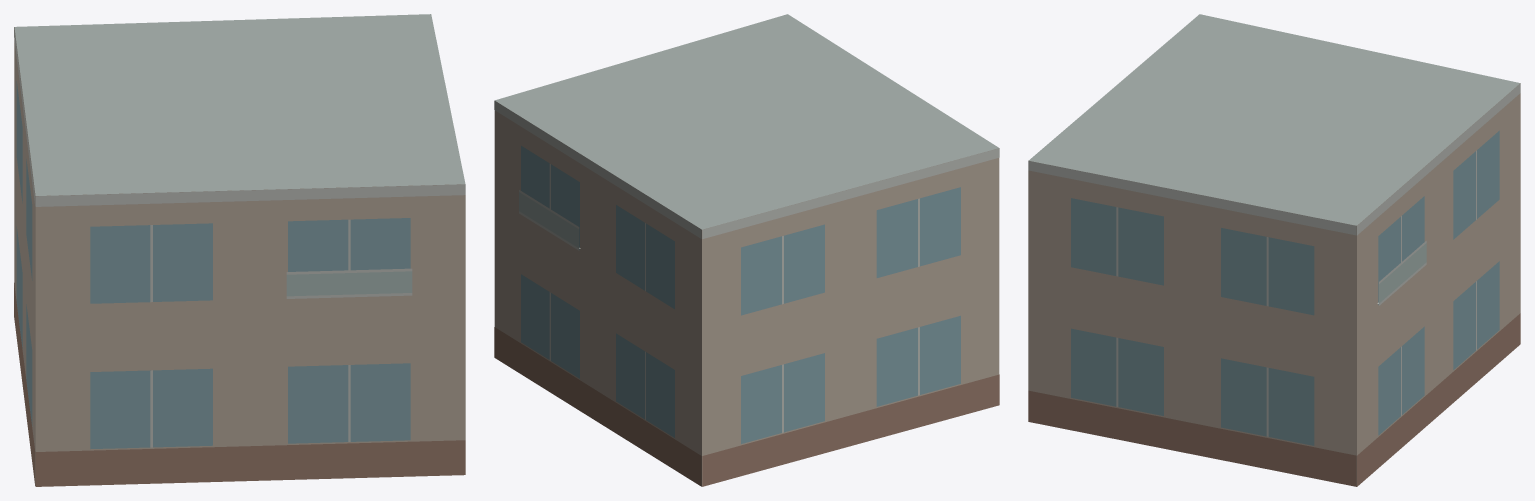
The model's file is survey-upis-32612415.glb.
The picture shows the model from 3 angles, left to right: view 1: azimuth 30°, elevation 25°; view 2: azimuth 150°, elevation 25°; view 3: azimuth 270°, elevation 25°; orthographic projection. The views are drawn at different scales.
Visible parts, largest first — view 1: survey-upis-32612415.tmp; view 2: survey-upis-32612415.tmp; view 3: survey-upis-32612415.tmp.
Part boxes in pixels (left/top/right/bottom): survey-upis-32612415.tmp: left=14, top=14, right=465, bottom=486; survey-upis-32612415.tmp: left=494, top=14, right=999, bottom=486; survey-upis-32612415.tmp: left=1028, top=14, right=1520, bottom=486.
Size of the model in its own units: 11.32 by 6.5 by 11.11.
